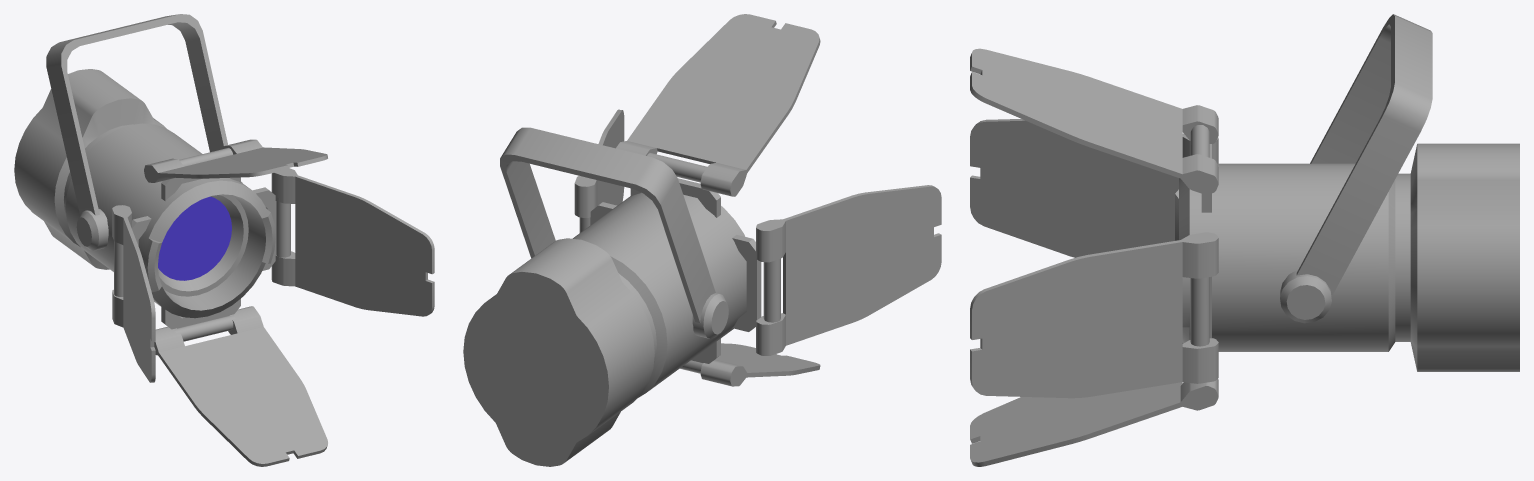
File: M_LightBulb_Big.fbx
3 renders of one model, left to right at view 1: azimuth 30°, elevation 25°; view 2: azimuth 150°, elevation 25°; view 3: azimuth 270°, elevation 25°, orthographic. The views are drawn at different scales.
Parts seen in each view (by area): view 1: SPOT. UNDER_02.001; view 2: SPOT. UNDER_02.001; view 3: SPOT. UNDER_02.001.
Part boxes in pixels (x1,y1,x2,y2): SPOT. UNDER_02.001: [14, 14, 434, 466]; SPOT. UNDER_02.001: [463, 14, 941, 466]; SPOT. UNDER_02.001: [970, 14, 1519, 466].
Bounding box in the file's own units: 88.92 × 93.53 × 117.
